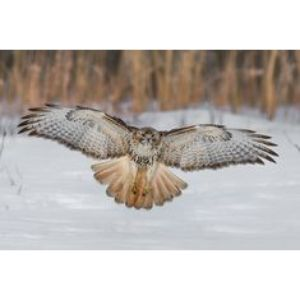hawk: (15, 98, 286, 214)
